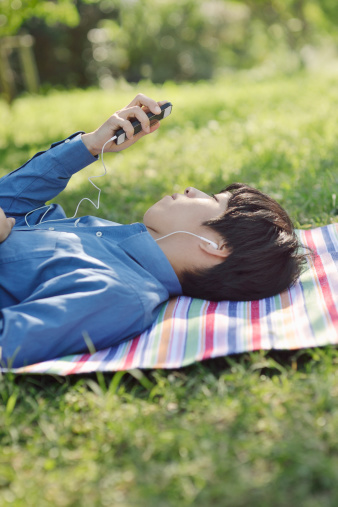deitado: (0, 141, 329, 354)
